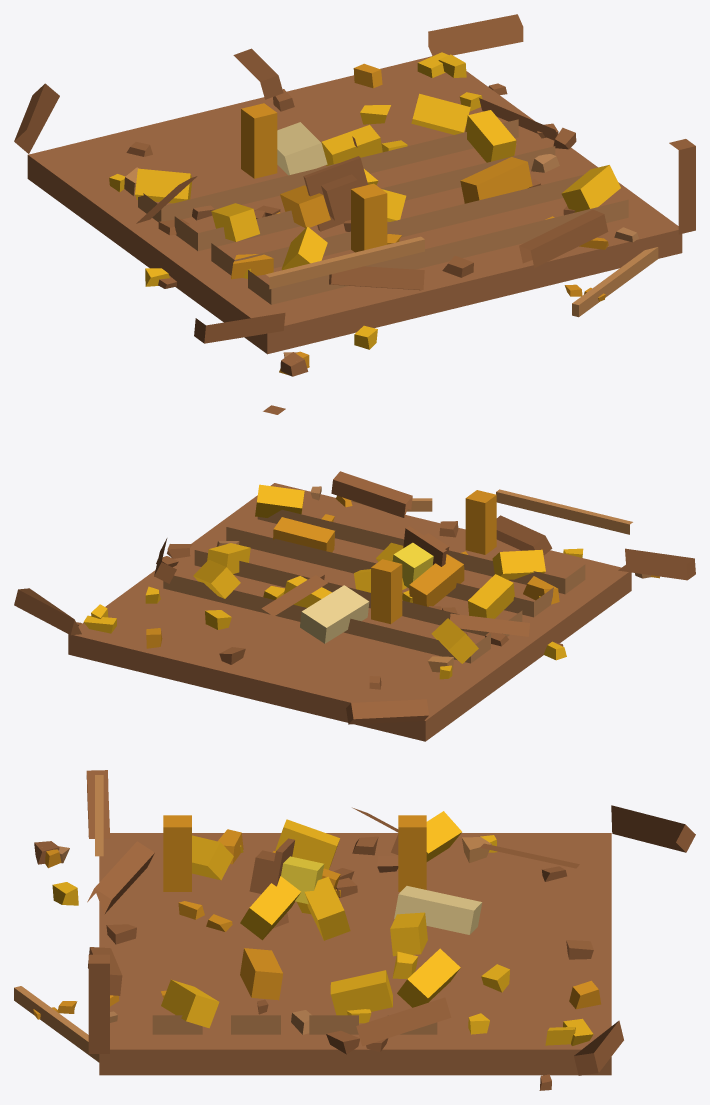
The model's file is field_t2_v1_dmg2.glb.
3 renders of one model, top to bottom at view 1: azimuth 30°, elevation 25°; view 2: azimuth 150°, elevation 25°; view 3: azimuth 270°, elevation 25°, orthographic. The views are drawn at different scales.
Parts seen in each view (by area): view 1: field_t2_v1_dmg2; view 2: field_t2_v1_dmg2; view 3: field_t2_v1_dmg2.
Part boxes in pixels (x1,y1,x2,y2): field_t2_v1_dmg2: [14, 14, 695, 376]; field_t2_v1_dmg2: [14, 405, 695, 741]; field_t2_v1_dmg2: [14, 770, 695, 1090].
Size of the model in its own units: 0.96 by 0.18 by 0.9584.
Materials: 1 (1 with a texture image).
